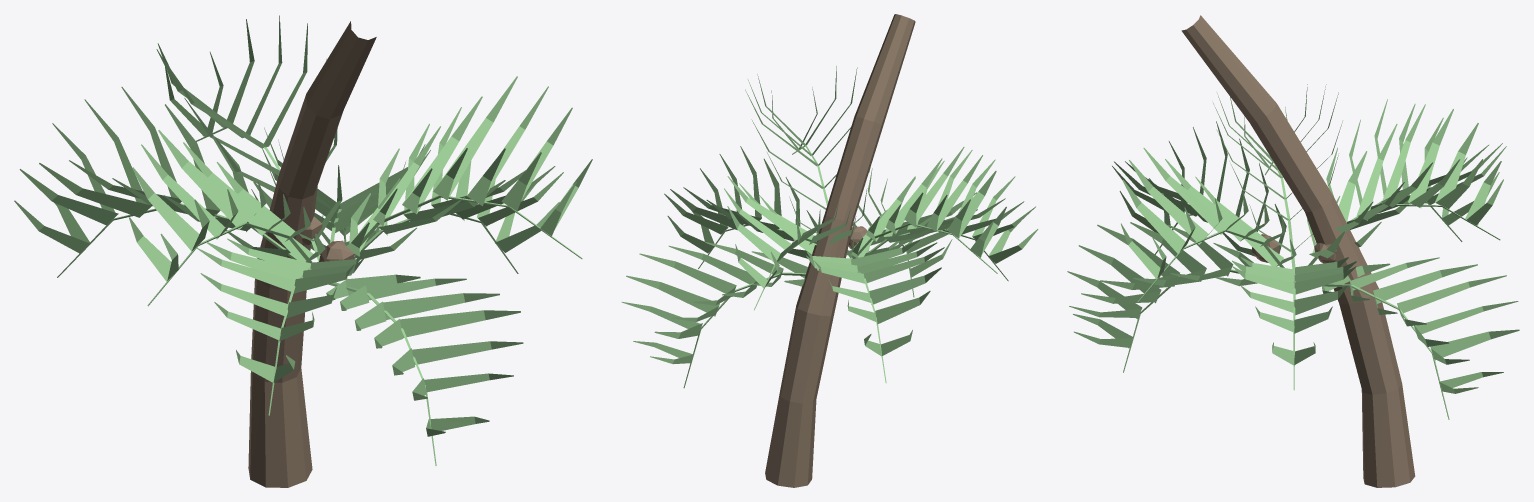
The model's file is nature_palm_leaning.glb.
The picture shows the model from 3 angles, left to right: view 1: azimuth 30°, elevation 25°; view 2: azimuth 150°, elevation 25°; view 3: azimuth 270°, elevation 25°; orthographic projection. The views are drawn at different scales.
Parts seen in each view (by area): view 1: world; view 2: world; view 3: world.
Boxes of the visible parts, x1=… form: world: x1=14, y1=15, x2=592, y2=487; world: x1=621, y1=14, x2=1038, y2=487; world: x1=1067, y1=15, x2=1519, y2=487.
Bounding box in the file's own units: 1.65 × 2 × 1.82.
